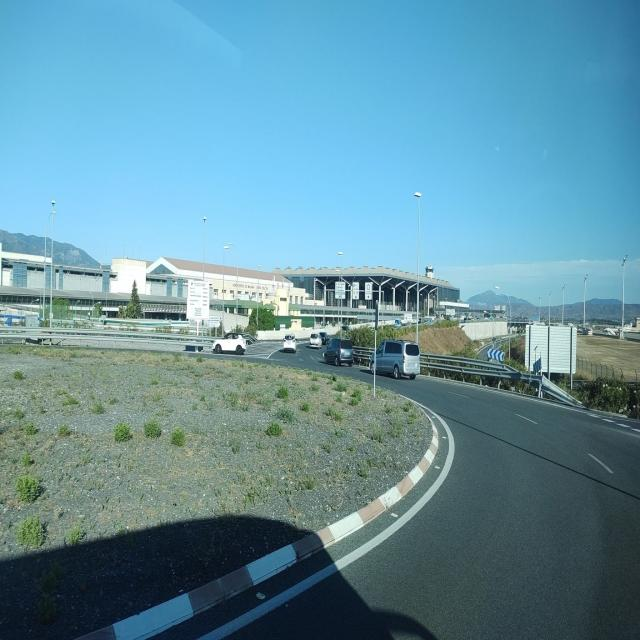car: (370, 338, 420, 380), (323, 336, 355, 367), (211, 330, 248, 354), (354, 346, 374, 366), (308, 330, 329, 349), (281, 333, 297, 354)
